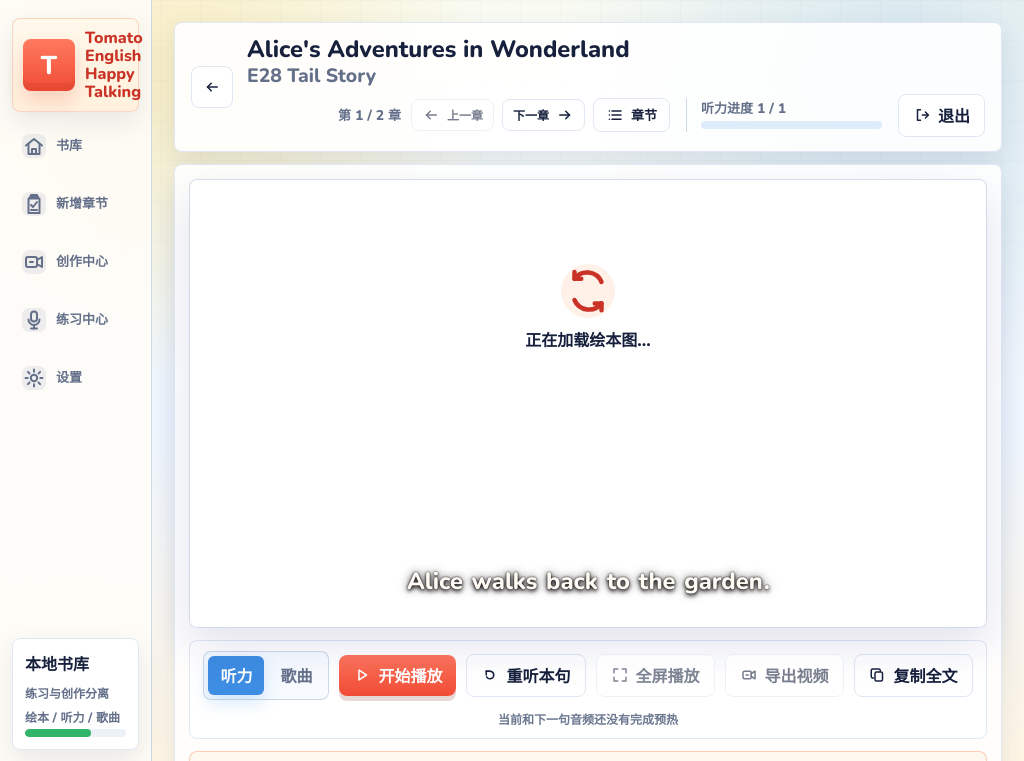
Test case: App › keeps the book player chapter list in a right-side drawer
The width and height of the screenshot is (1024, 761).
Check: the text "E28 Tail Story" is shown, box [247,62,376,88]
Check: the dialog "章节列表" is not shown
Click the button "章节" at (632, 115), box [593,98,670,132]
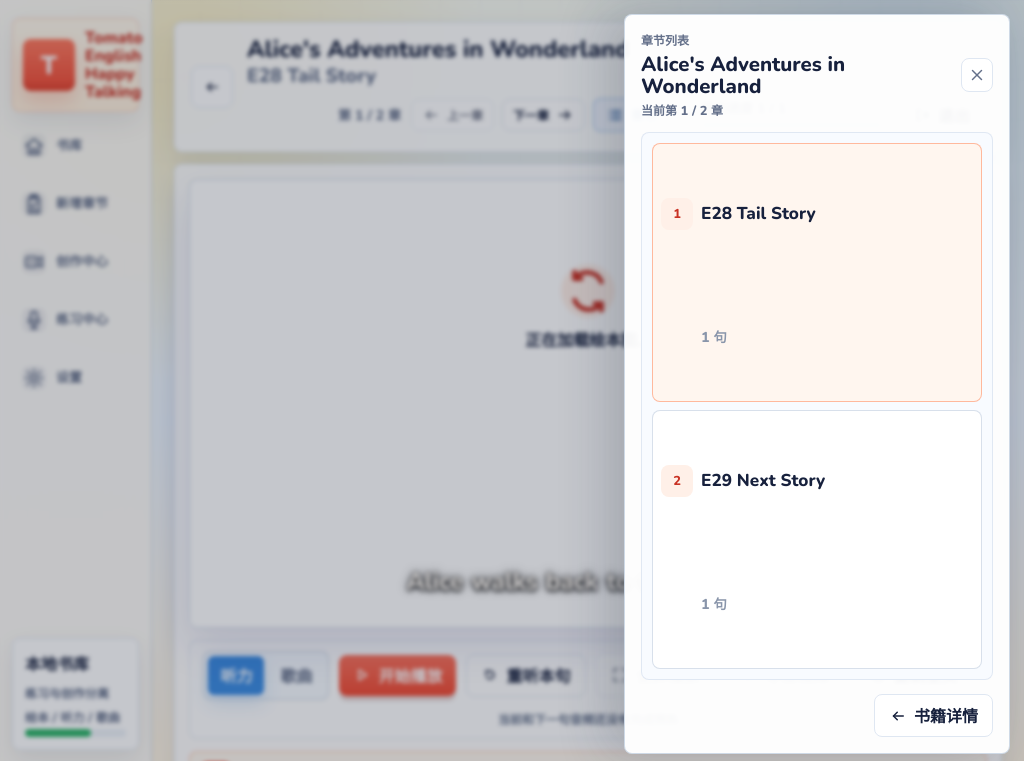
Check: the text "Alice's Adventures in Wonderland" is shown, box [641,50,845,100]
Click the button "2 E29 Next Story 1 句" at (677, 481), box [652,410,982,669]
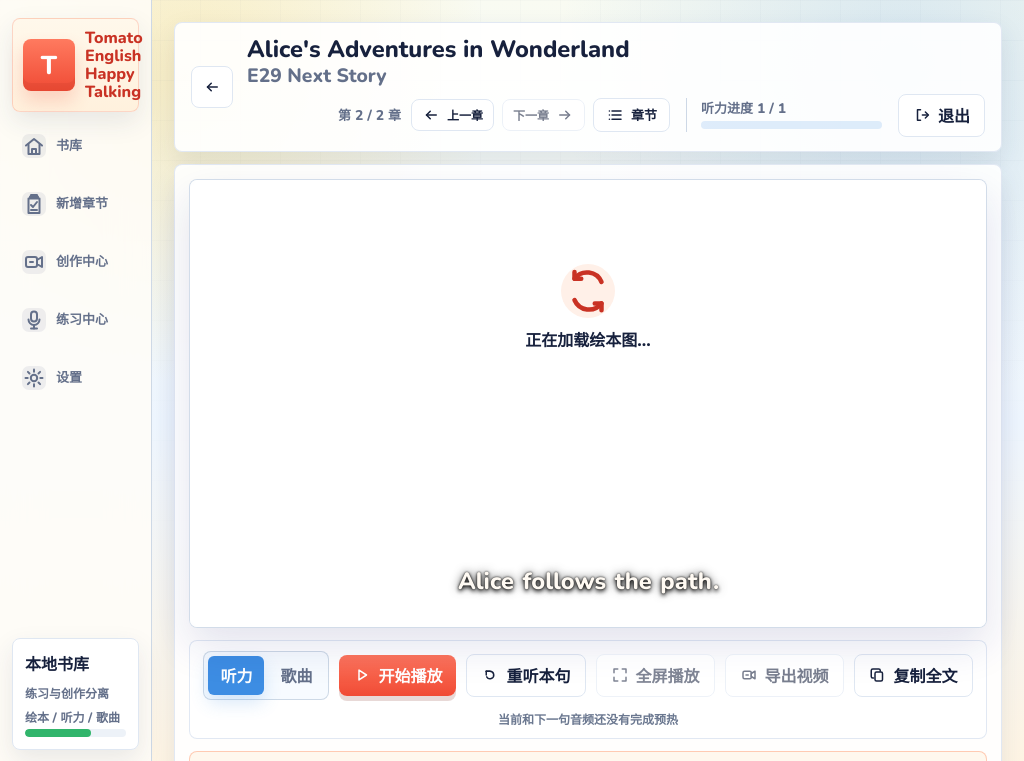
Check: the text "章节列表" is gone
